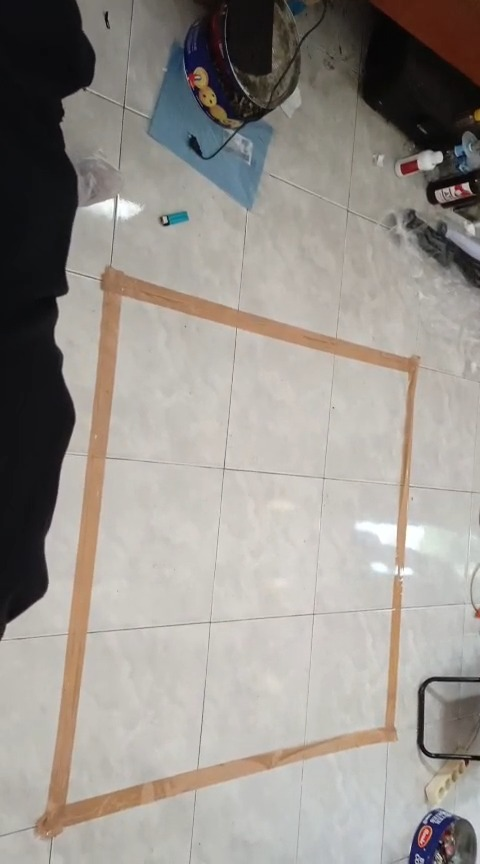floor marking: (37, 267, 418, 837)
